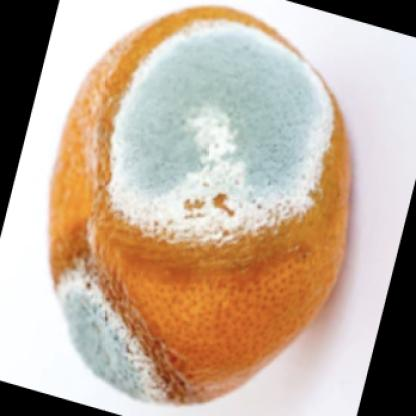rotten: (47, 9, 354, 408)
